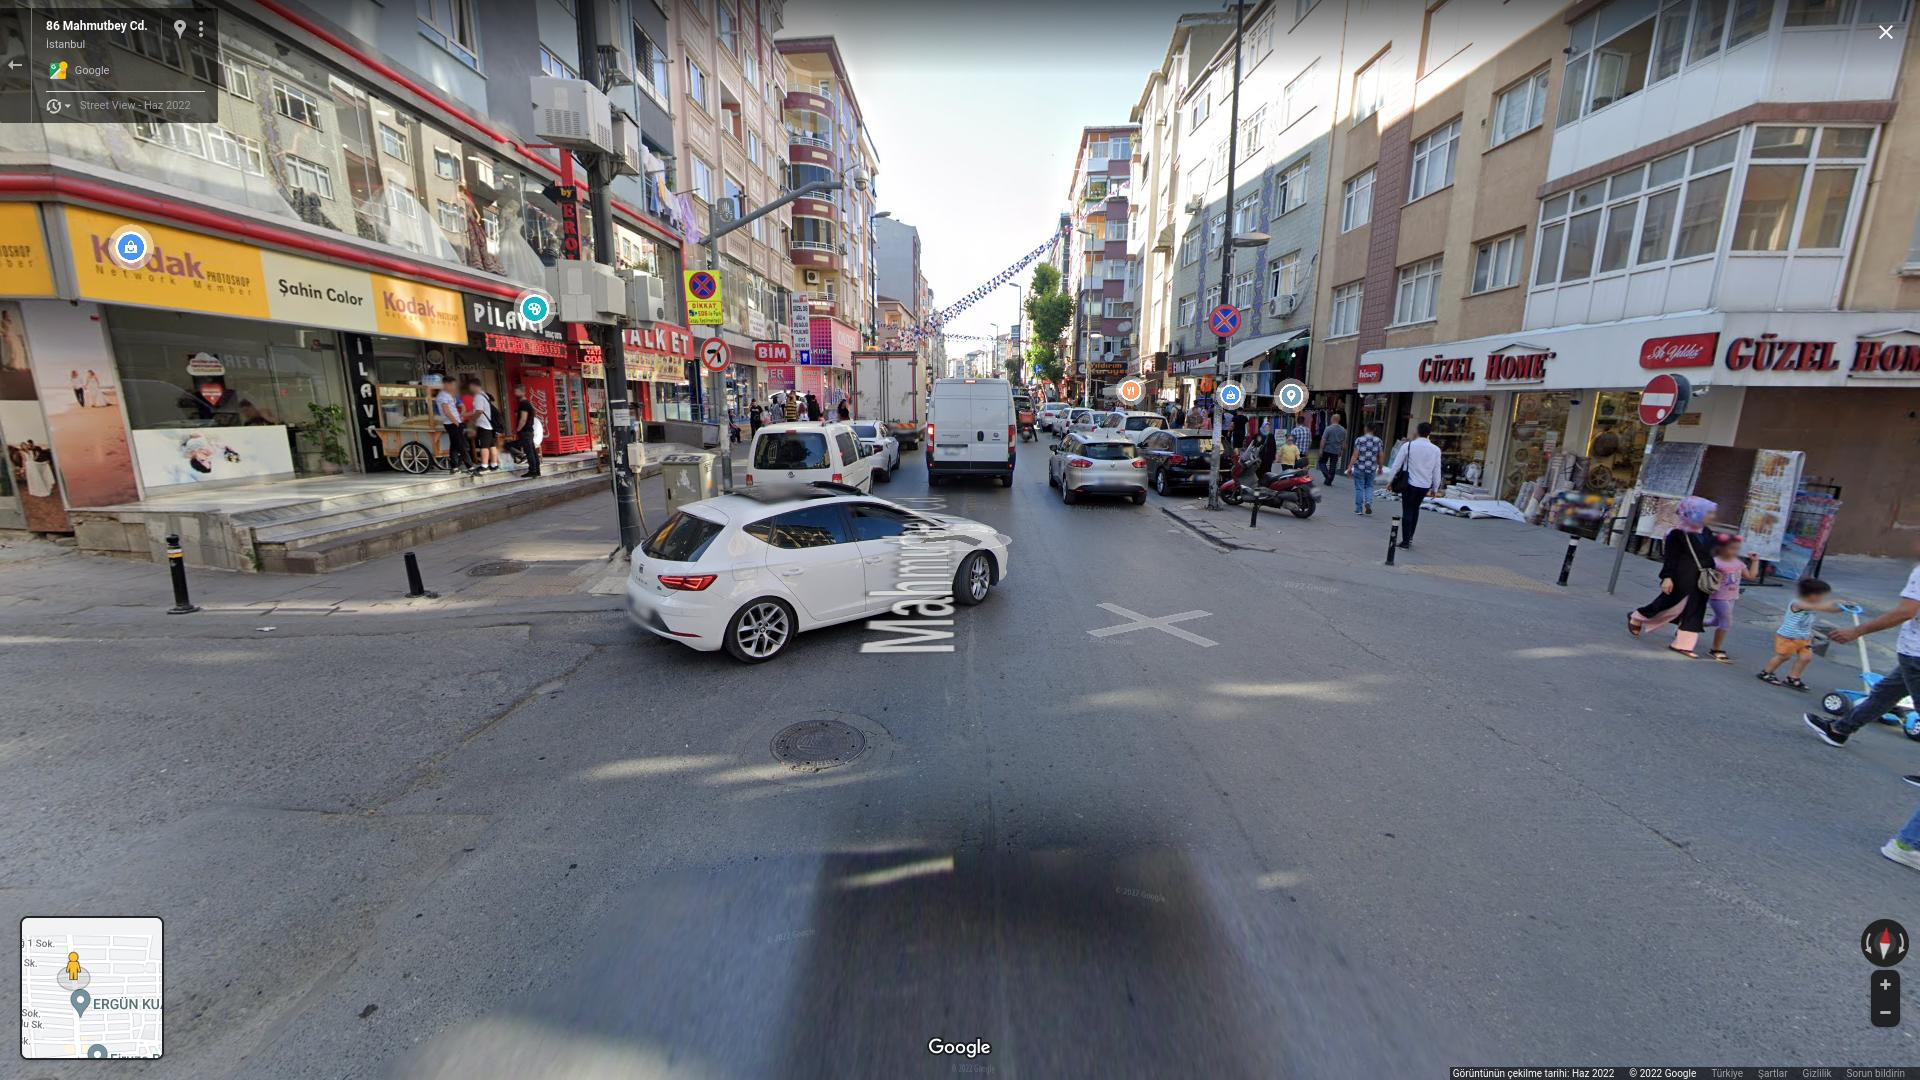leftturnsareforbidden: (702, 338, 731, 371)
